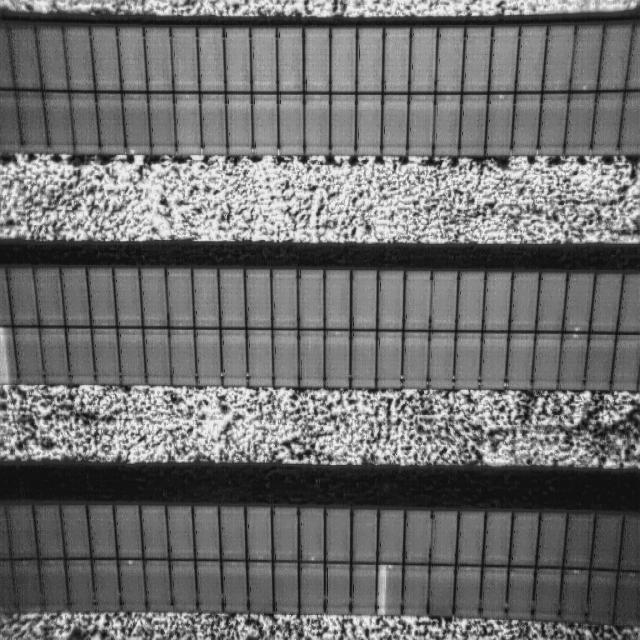diode: (376, 564, 389, 614), (0, 328, 11, 386)
hotspot: (570, 322, 584, 342)
